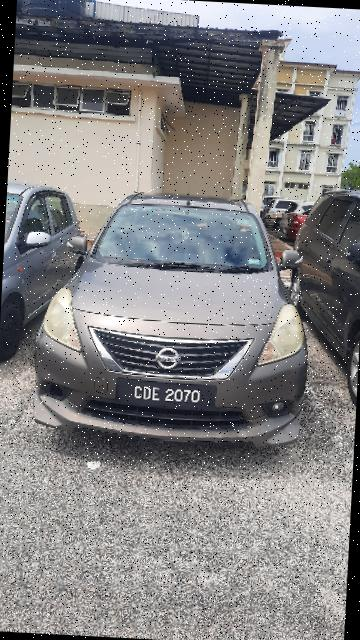License_Plate: (113, 373, 226, 421)
car: (17, 174, 331, 467)
